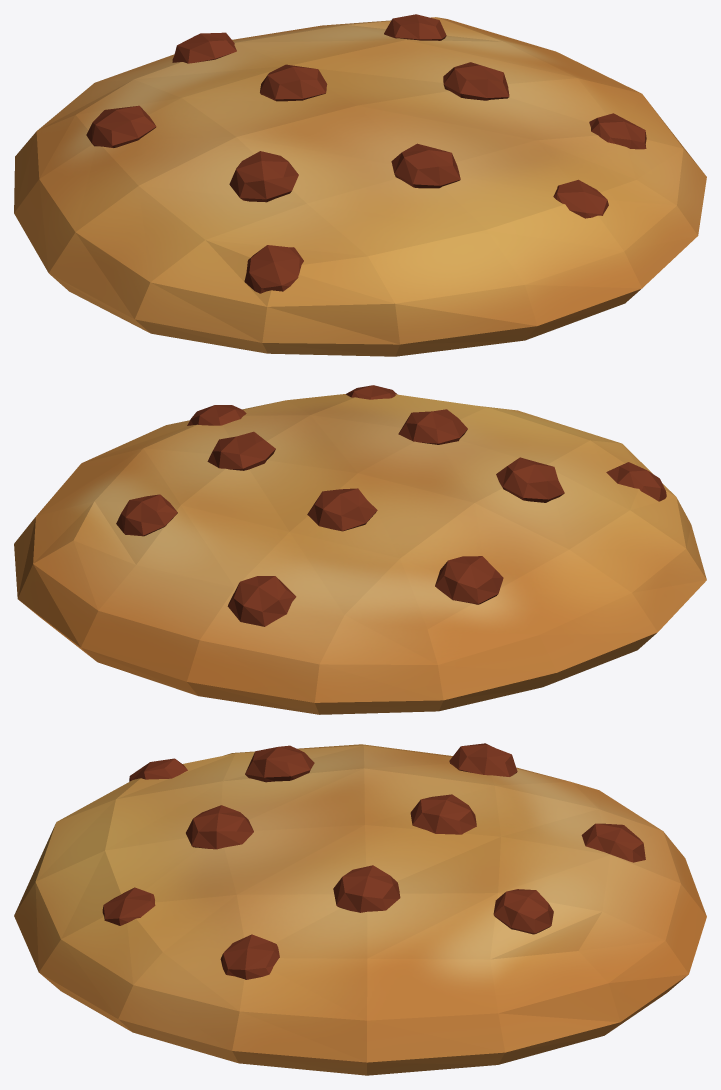
The model's file is choco.glb.
3 renders of one model, top to bottom at view 1: azimuth 30°, elevation 25°; view 2: azimuth 150°, elevation 25°; view 3: azimuth 270°, elevation 25°, orthographic. The views are drawn at different scales.
Visible parts, largest first — view 1: node-0; view 2: node-0; view 3: node-0.
Boxes of the visible parts, x1,y1,x2,y2 form: node-0: (14,14,706,356); node-0: (14,385,706,714); node-0: (14,743,706,1075).
Size of the model in its own units: 4.49 by 0.9909 by 4.42.
Materials: 2 (1 with a texture image).
